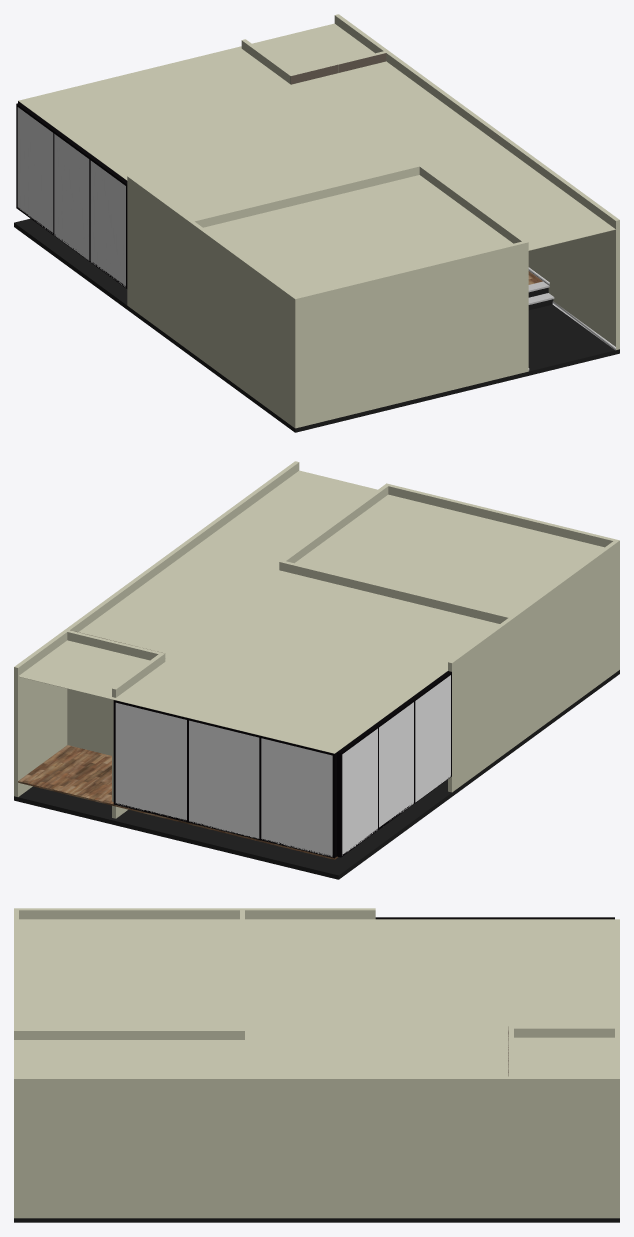
File: RoomHouse.gltf
3 renders of one model, top to bottom at view 1: azimuth 30°, elevation 25°; view 2: azimuth 150°, elevation 25°; view 3: azimuth 270°, elevation 25°, orthographic. The views are drawn at different scales.
Visible parts, largest first — view 1: ceiling, Wall, WallBedroom, GlassWindow, BASE, FrameWindow, DoorCabin; view 2: ceiling, Wall, GlassWindow, BASE, WallBedroom, FrameWindow, FloorSurface; view 3: Wall, ceiling, WallBedroom, BASE, FrameWindow.
Part boxes in pixels (bbox=[...]): ceiling: bbox=[18, 23, 615, 296]; Wall: bbox=[127, 14, 619, 428]; WallBedroom: bbox=[192, 164, 528, 427]; GlassWindow: bbox=[17, 107, 125, 287]; BASE: bbox=[14, 218, 619, 432]; FrameWindow: bbox=[16, 101, 127, 288]; DoorCabin: bbox=[290, 53, 386, 84]; ceiling: bbox=[18, 470, 604, 753]; Wall: bbox=[14, 461, 619, 818]; GlassWindow: bbox=[115, 675, 450, 856]; BASE: bbox=[14, 670, 619, 879]; WallBedroom: bbox=[279, 483, 615, 623]; FrameWindow: bbox=[113, 671, 451, 858]; FloorSurface: bbox=[18, 745, 337, 859]; Wall: bbox=[14, 908, 619, 1218]; ceiling: bbox=[14, 919, 619, 1076]; WallBedroom: bbox=[14, 910, 244, 1039]; BASE: bbox=[14, 1218, 619, 1222]; FrameWindow: bbox=[375, 917, 614, 919].
Bounding box in the file's own units: 8 × 3.14 × 12.
